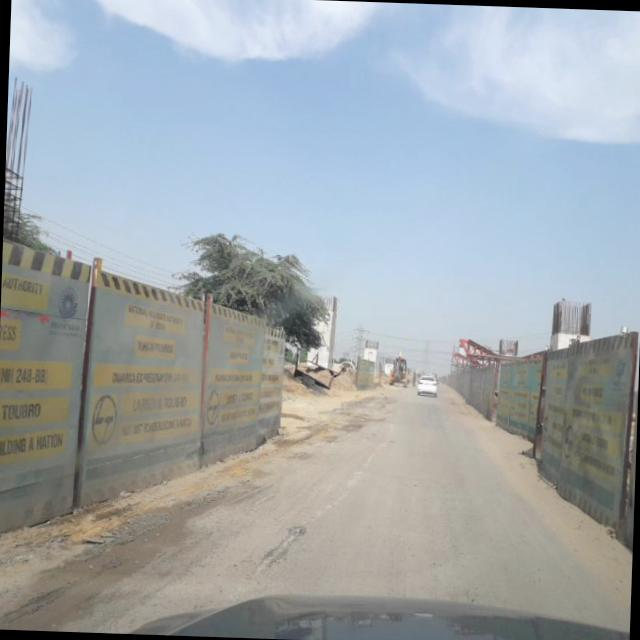pothole: (251, 434, 394, 582)
